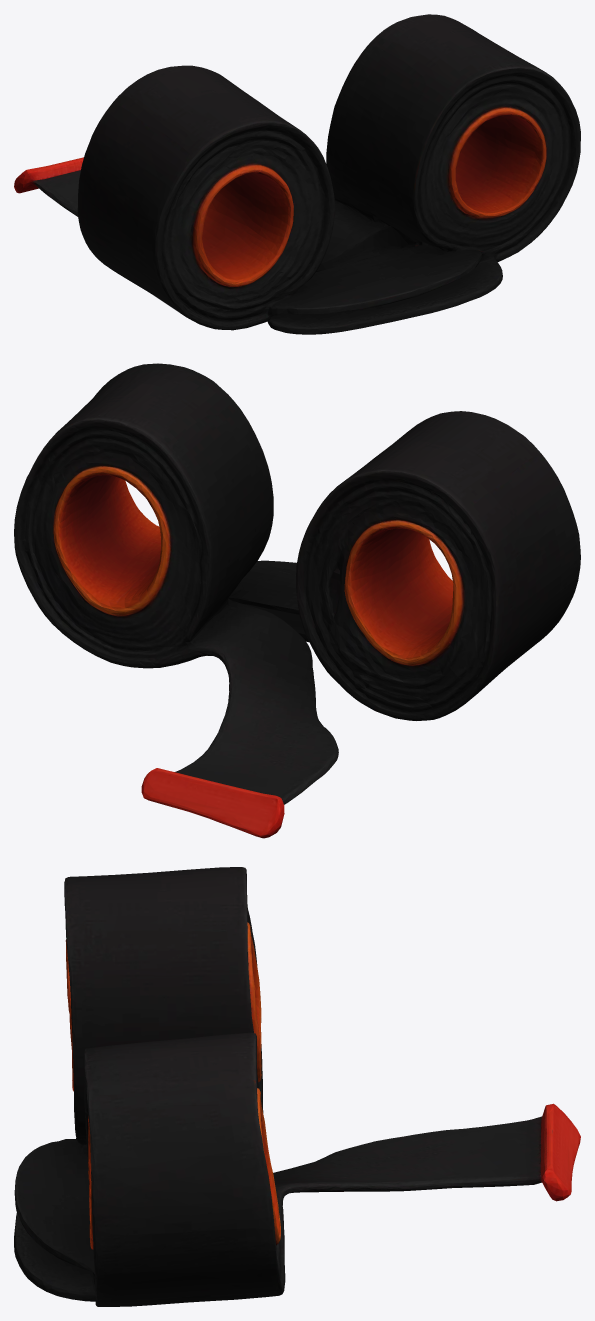
Rendered from hand-wraps.glb.
3 views of the same model, one above another, from view 1: azimuth 30°, elevation 25°; view 2: azimuth 150°, elevation 25°; view 3: azimuth 270°, elevation 25° (orthographic). The views are drawn at different scales.
Parts seen in each view (by area): view 1: geometry_0; view 2: geometry_0; view 3: geometry_0.
Boxes of the visible parts, x1,y1,x2,y2 form: geometry_0: [14, 14, 580, 334]; geometry_0: [14, 363, 580, 838]; geometry_0: [14, 867, 580, 1306].
Size of the model in its own units: 0.9998 by 0.4831 by 0.9254.
Materials: 1 (1 with a texture image).
